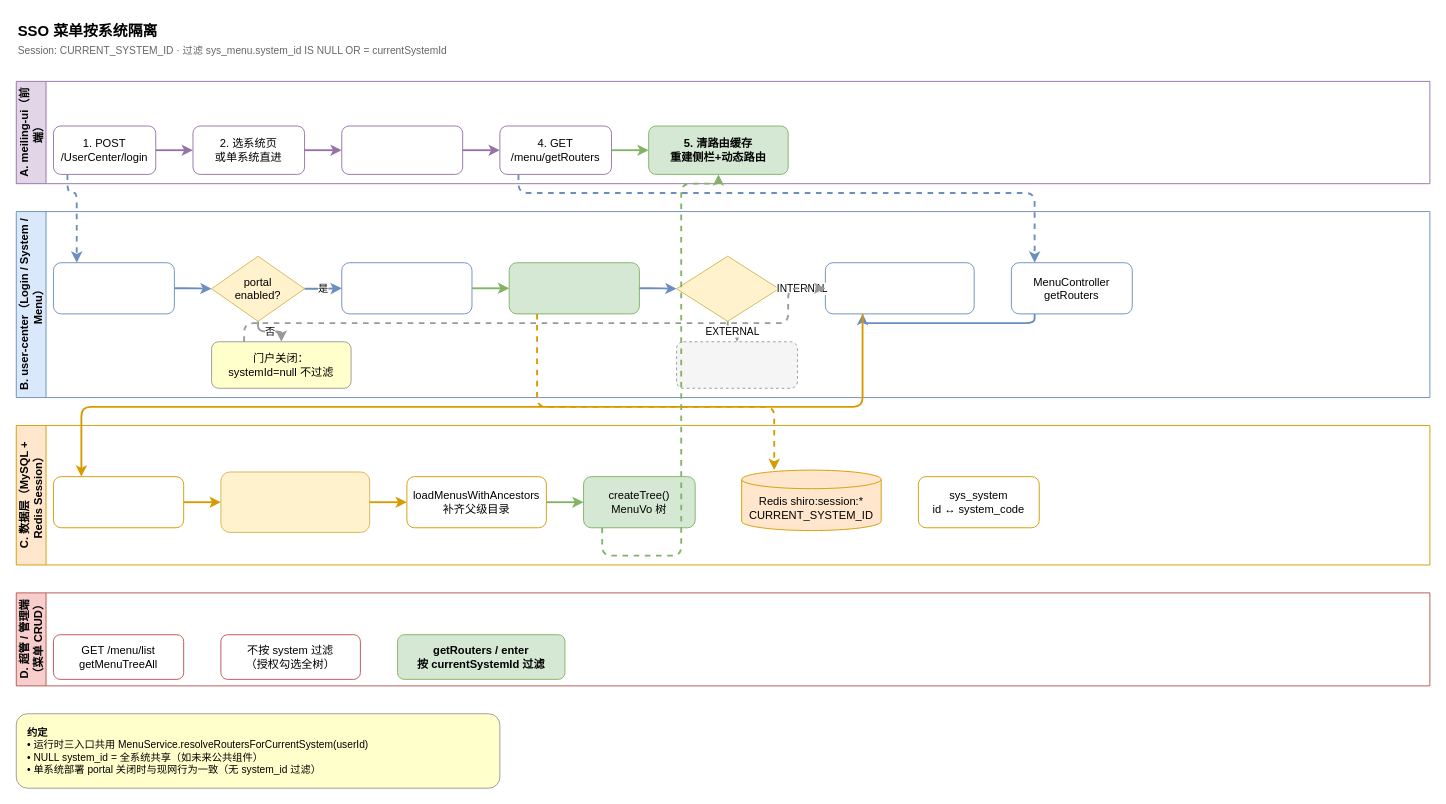
Some shapes in this 1446 by 804 pixel diagram are drawn without their labels. The centre of each missing label's shape, as x and y in pixels:
"3. POST /system/enter|switch" goes at (x=402, y=149).
"LoginController fillLoginContext" goes at (x=113, y=288).
"MenuService selectMenuTreeBySystem" goes at (x=899, y=288).
"ShiroUtils setCurrentSystem" goes at (x=573, y=288).
"sso_mode = EXTERNAL?" goes at (x=727, y=288).
"sys_menu WHERE system_id IS NULL OR = :sid" goes at (x=295, y=501).
"sys_user_role → sys_role_menu" goes at (x=118, y=502).
"SysSystemService enterSystem" goes at (x=406, y=288).
"空 menuVoList + redirectUrl" goes at (x=736, y=364).
